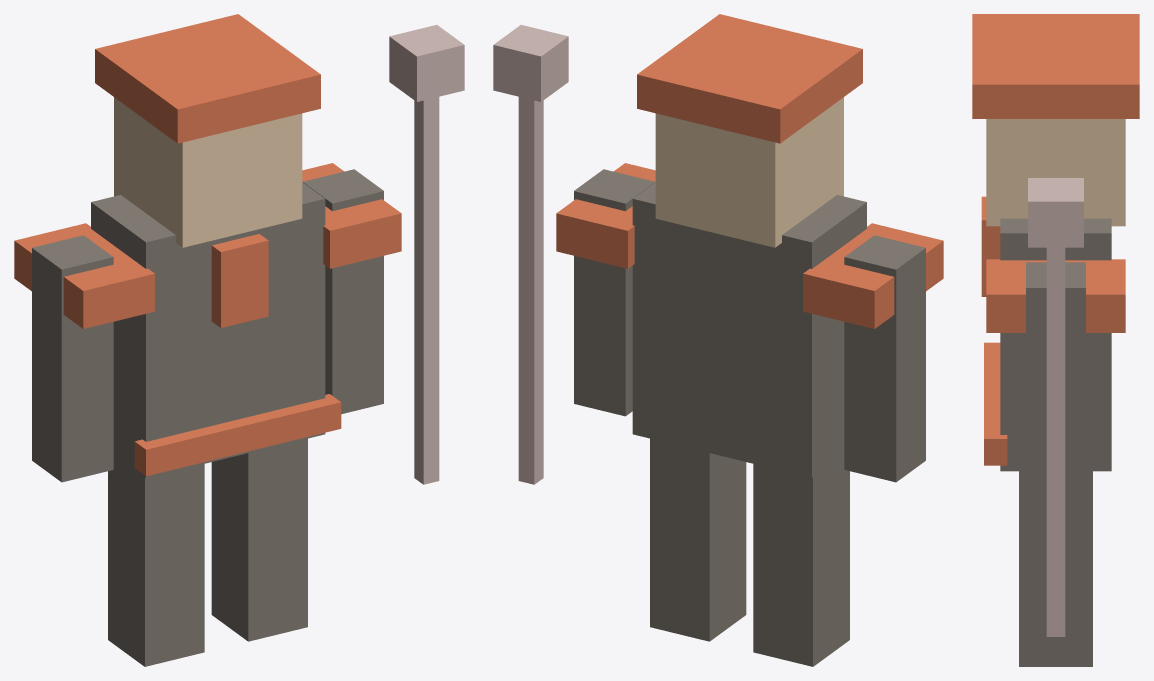
The model's file is 12_nix_riftwalker_specialist_from_furnace.glb.
The picture shows the model from 3 angles, left to right: view 1: azimuth 30°, elevation 25°; view 2: azimuth 150°, elevation 25°; view 3: azimuth 270°, elevation 25°; orthographic projection.
Visible parts, largest first — view 1: Nix Riftwalker, Specialist from Furnace; view 2: Nix Riftwalker, Specialist from Furnace; view 3: Nix Riftwalker, Specialist from Furnace.
Boxes of the visible parts, <box> form: Nix Riftwalker, Specialist from Furnace: <box>14,14,464,666</box>; Nix Riftwalker, Specialist from Furnace: <box>493,14,943,666</box>; Nix Riftwalker, Specialist from Furnace: <box>972,14,1139,666</box>.
Bounding box in the file's own units: 1.09 × 1.47 × 0.3864.
